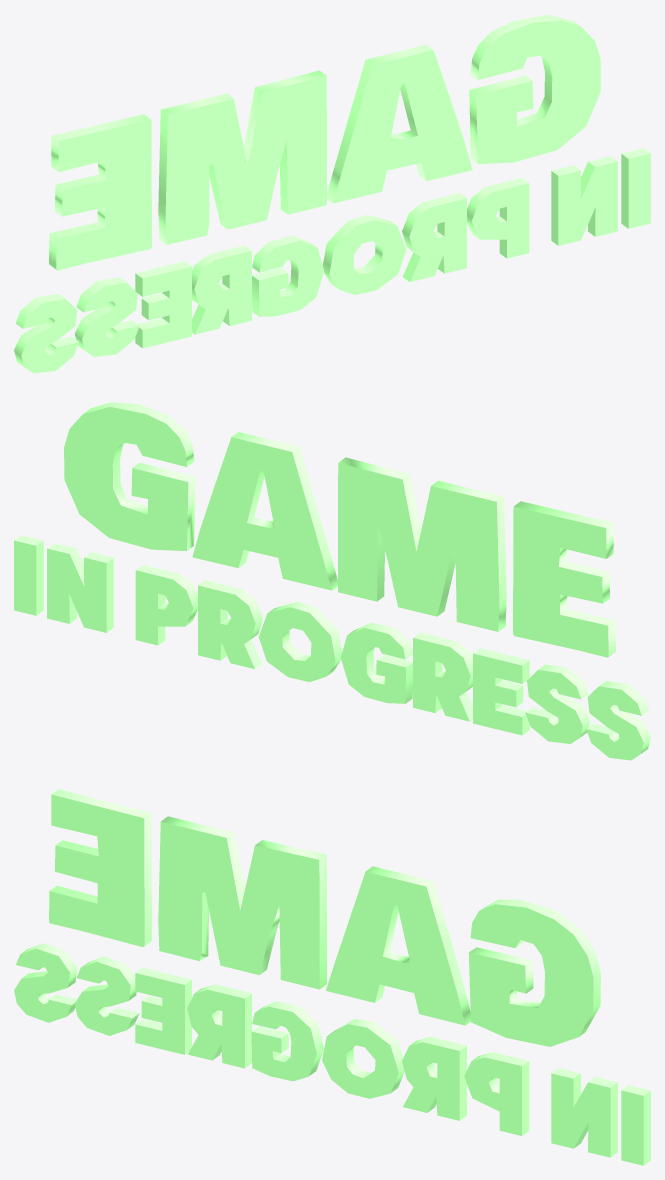
File: GameInProText.glb
The picture shows the model from 3 angles, top to bottom: view 1: azimuth 30°, elevation 25°; view 2: azimuth 150°, elevation 25°; view 3: azimuth 330°, elevation 25°; orthographic projection.
Parts seen in each view (by area): view 1: GameInProText; view 2: GameInProText; view 3: GameInProText.
Part boxes in pixels (<box>): GameInProText: <box>14,14,650,373</box>; GameInProText: <box>14,402,650,760</box>; GameInProText: <box>14,789,650,1165</box>.
Size of the model in its own units: 3.64 by 1.28 by 0.073.
